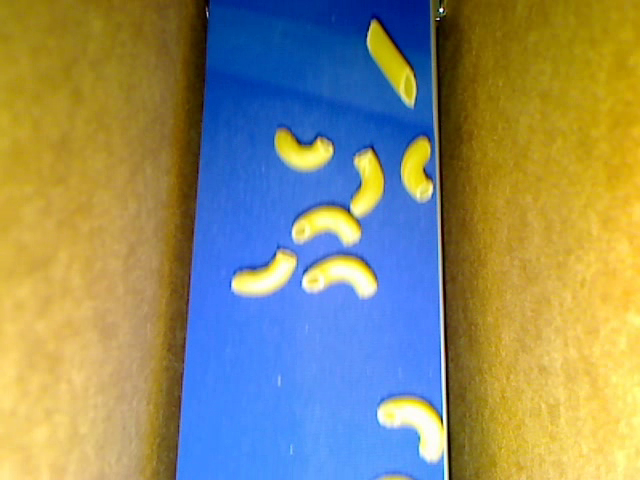elbow: (377, 395, 444, 463), (302, 254, 378, 300), (230, 247, 297, 297), (290, 204, 362, 247), (273, 128, 334, 173), (350, 148, 383, 220), (400, 136, 432, 203)
penne: (366, 18, 416, 110)
